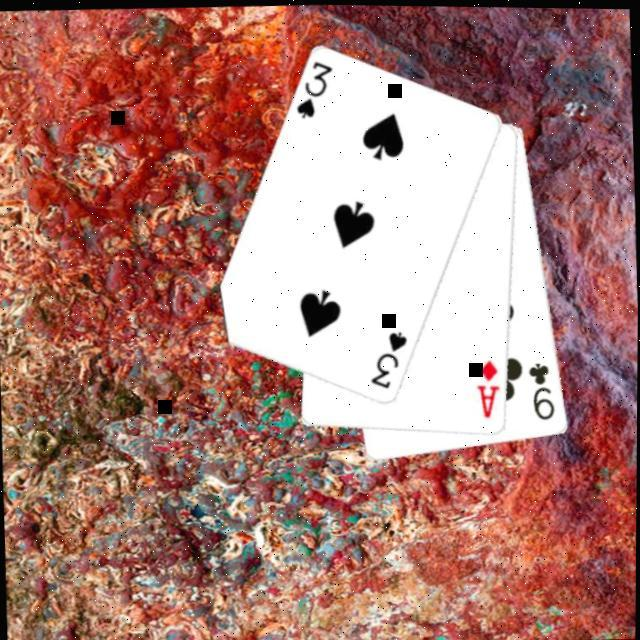3S: (292, 54, 338, 120), (367, 326, 412, 390)
9C: (528, 356, 560, 420)
AD: (474, 354, 504, 418)
